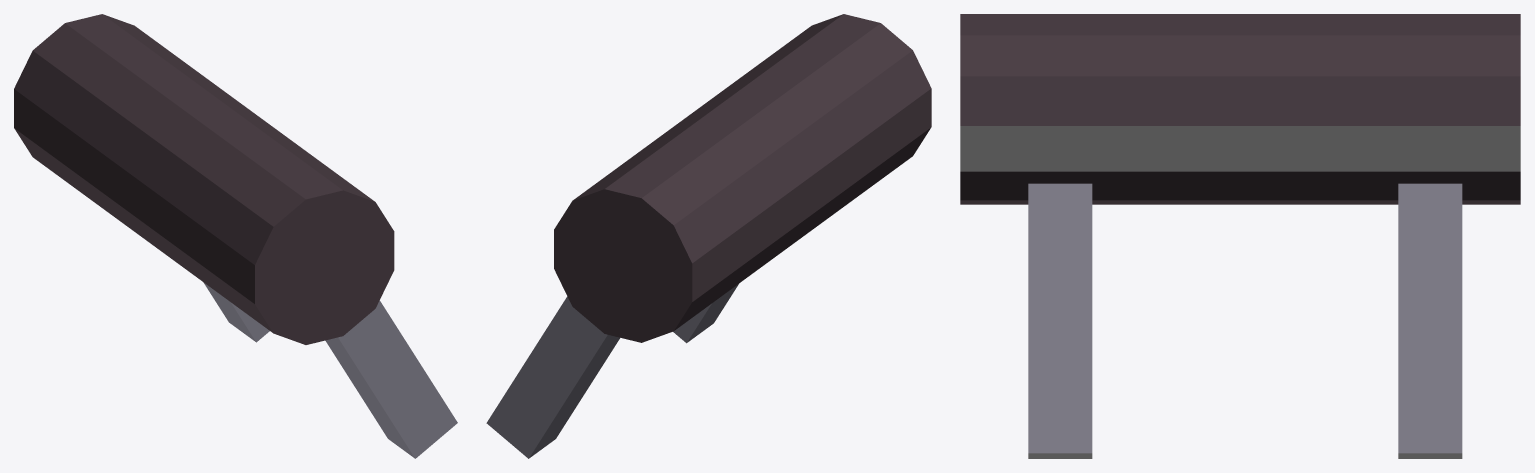
File: Interruptor-palanca.obj
3 renders of one model, left to right at view 1: azimuth 30°, elevation 25°; view 2: azimuth 150°, elevation 25°; view 3: azimuth 270°, elevation 25°, orthographic. The views are drawn at different scales.
Visible parts, largest first — view 1: pCylinder2; view 2: pCylinder2; view 3: pCylinder2.
Boxes of the visible parts, x1=… form: pCylinder2: x1=14, y1=14, x2=457, y2=458; pCylinder2: x1=486, y1=14, x2=931, y2=458; pCylinder2: x1=960, y1=14, x2=1520, y2=458.
Size of the model in its own units: 0.2231 by 0.2889 by 0.4009.
3 materials, 2 textured.
